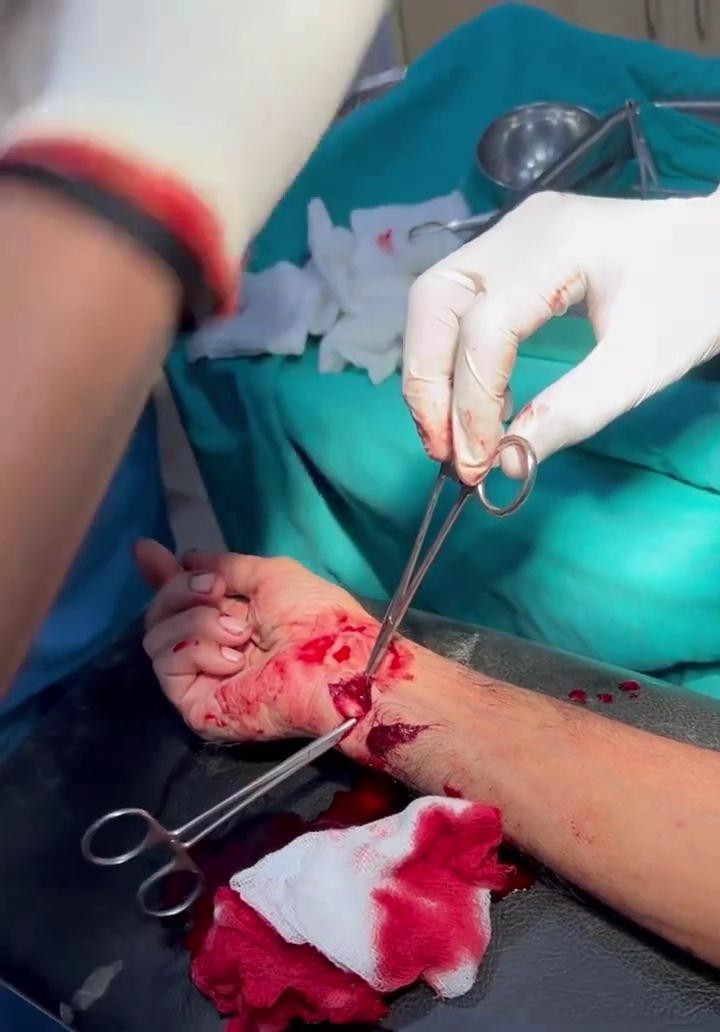Fire: (189, 887, 388, 1032), (372, 798, 507, 999), (213, 600, 381, 736), (563, 680, 644, 715), (371, 639, 414, 692), (366, 724, 427, 752), (178, 636, 196, 656)
